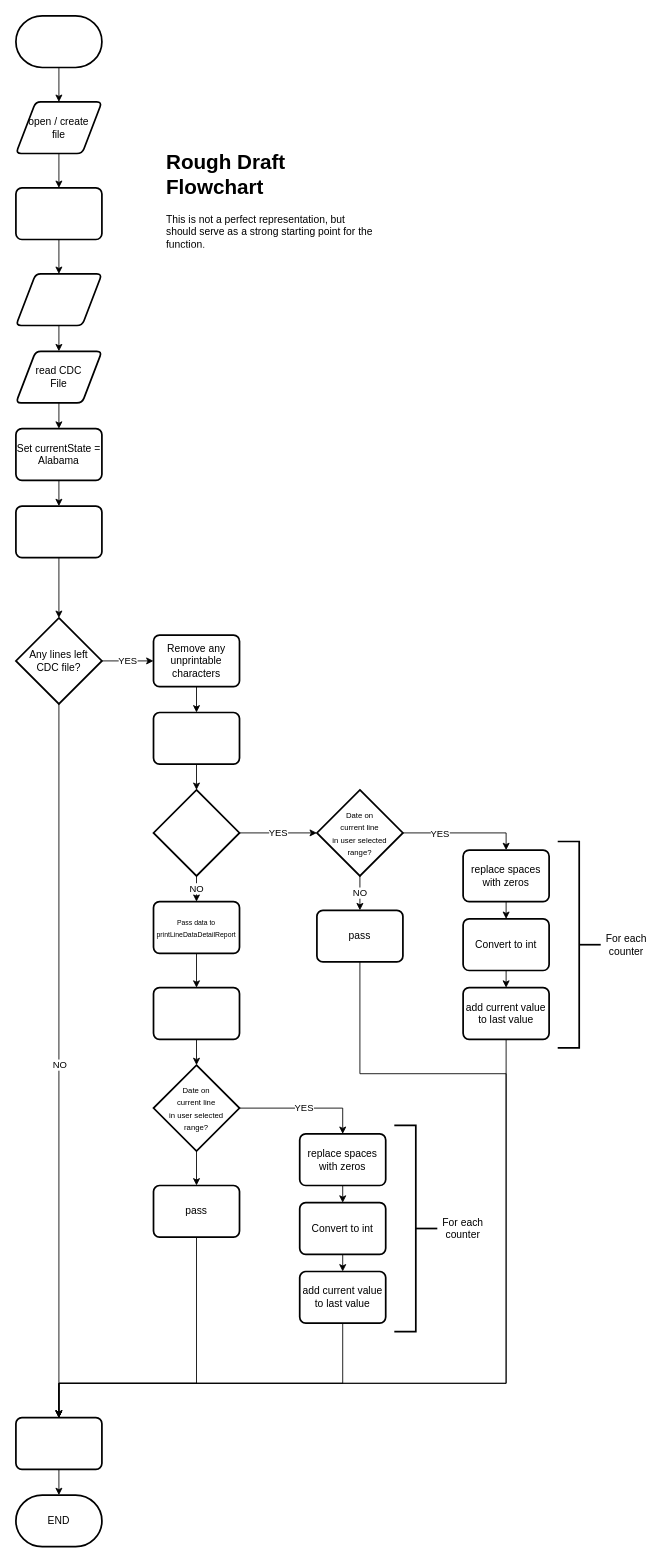
The diagram is 667 pixels wide and 1562 high, and some of its shapes have lost their labels. Here are the shapes that lost their labels. From the top down, the box of each, then its label:
(15, 15, 102, 68): Start totalMortalityByState ()
(15, 187, 102, 240): Set report run Time
(15, 273, 102, 326): write headers to file
(15, 505, 102, 558): Set counters to zero
(152, 711, 240, 765): Break string into a list
(152, 789, 240, 876): State on current line = to currentState?
(152, 986, 240, 1040): Reset Counters
(15, 1416, 102, 1470): Close File
